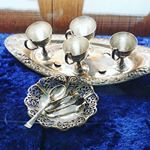cups: (107, 28, 140, 75), (22, 17, 55, 64), (60, 33, 94, 78), (63, 14, 98, 41)
